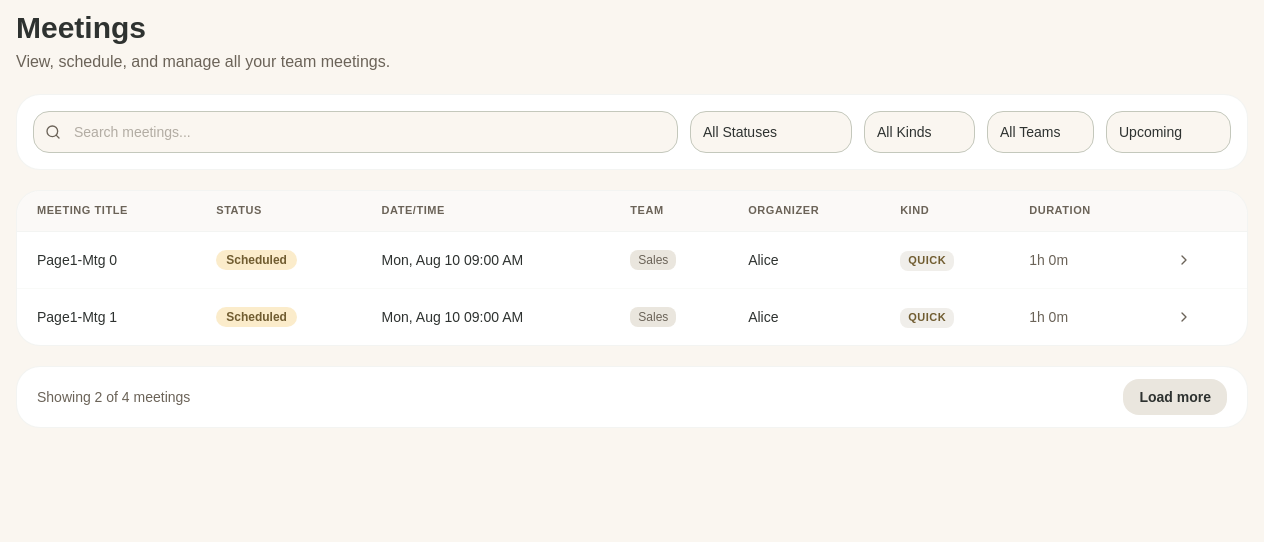
Scenario: Phase 6.2 — Browse & Calendar Day › 4. "Load more" appends distinct cards
Expected: the link "Page1-Mtg 0" is shown, [37,252,117,268]
Click the button "Load more".
click(1175, 397)  # box [1123,379,1227,415]
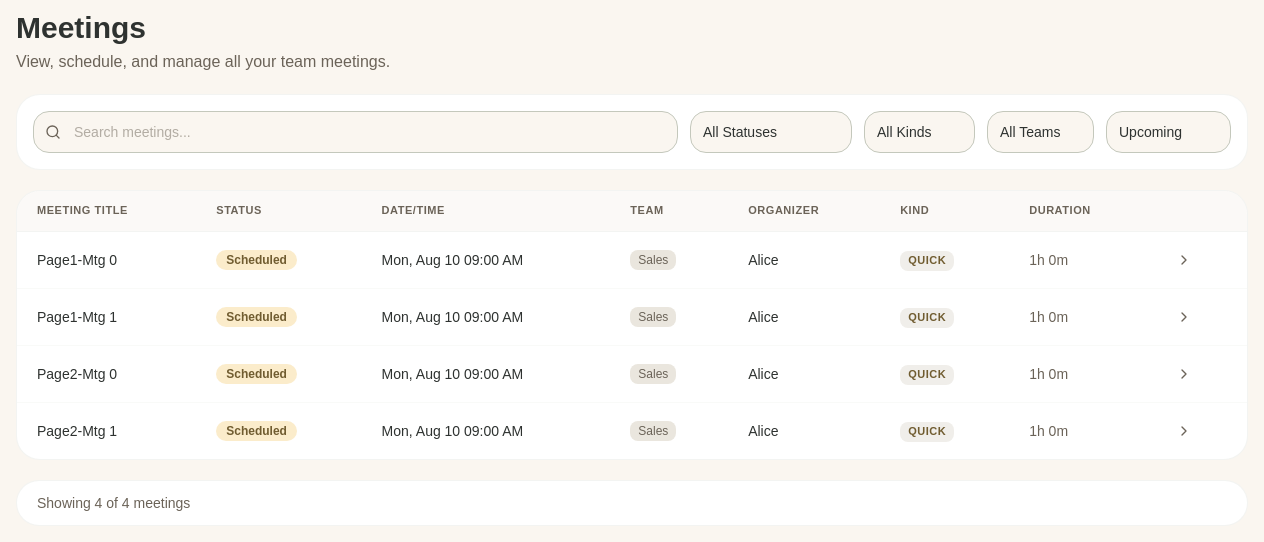
Expected: the link "Page2-Mtg 0" is shown, [37,366,117,382]
